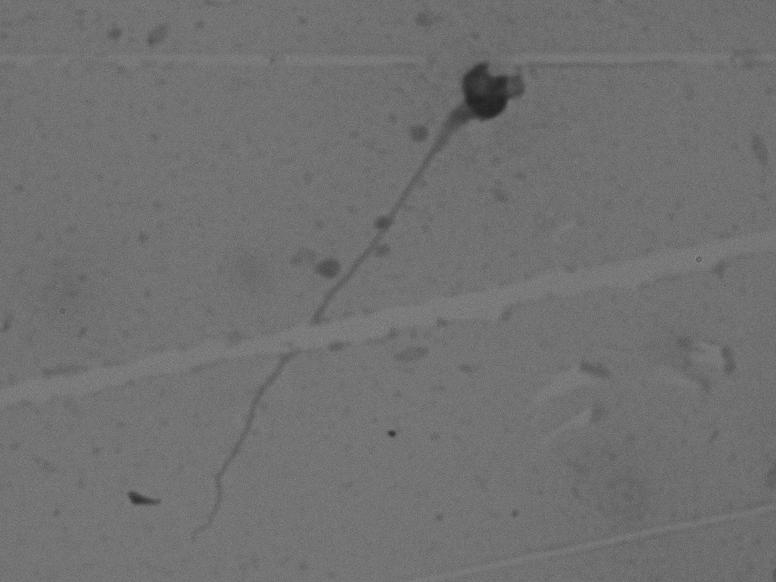Abnormal: (168, 18, 553, 541)
